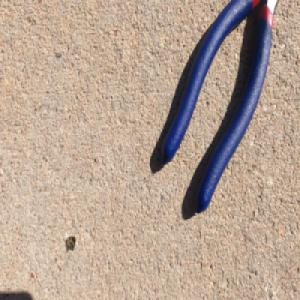Pliers: (158, 0, 280, 216)
